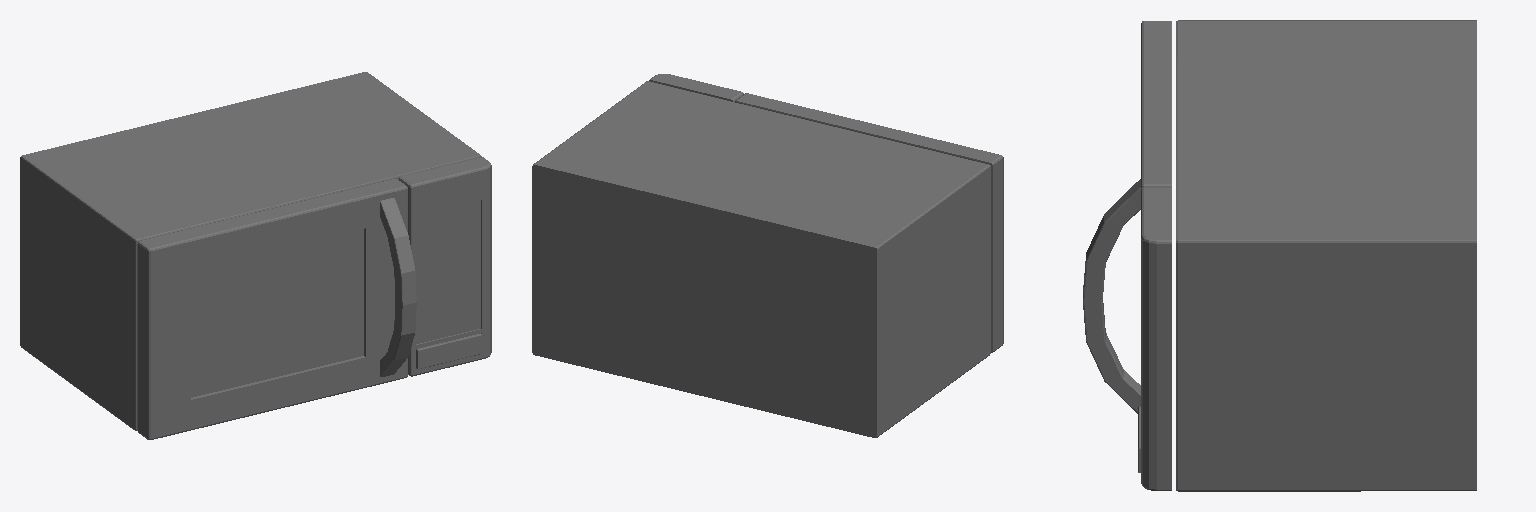
robot.urdf — microwave.urdf:
<?xml version="1.0" ?>

<robot name="microwave.urdf">
  <material name="Dark Grey">
    <color rgba=".3 .3 .3 1"/>
  </material>
  <material name="Light Grey">
    <color rgba=".5 .5 .5 1"/>
  </material>
  <link name="base_link">
    <inertial>
      <mass value="5"/>
      <inertia ixx="1" ixy="0" ixz="0" iyy="1" iyz="0" izz="1"/>
    </inertial>
    <visual>
      <geometry>
		    <mesh filename="microbody.obj" />
      </geometry>
      <material name="Light Grey"/>
    </visual>
    <visual>
      <geometry>
        <mesh filename="microbutton.obj" />
      </geometry>
      <material name="Light Grey"/>
    </visual>
    <visual>
      <geometry>
        <mesh filename="microfeet.obj" />
      </geometry>
      <material name="Light Grey"/>
    </visual>

    <collision concave="yes">
      <geometry>
		    <mesh filename="microbody.obj" />
      </geometry>
    </collision>
    <collision>
      <geometry>
        <mesh filename="microbutton.obj" />
      </geometry>
    </collision>
    <collision>
      <geometry>
        <mesh filename="microfeet.obj" />
      </geometry>
    </collision>
  </link>
  <link name="screen_link">
    <inertial>
      <mass value="5"/>
      <inertia ixx="1" ixy="0" ixz="0" iyy="1" iyz="0" izz="1"/>
    </inertial>
    <visual>
      <origin rpy="0 0 0" xyz="0 0 0"/>
      <geometry>
        <mesh filename="microscreen.obj" />
      </geometry>
      <material name="Light Grey"/>
    </visual>
    <collision>
      <origin rpy="0 0 0" xyz="0 0 0"/>
      <geometry>
        <mesh filename="microscreen.obj" />
      </geometry>
    </collision>
  </link>
  <link name="door_link">
    <inertial>
      <mass value="5"/>
      <inertia ixx="1" ixy="0" ixz="0" iyy="1" iyz="0" izz="1"/>
    </inertial>
    <visual>
      <origin rpy="0 0 0" xyz=".3 .2 0"/>
      <geometry>
			  <mesh filename="microdoor.obj" />
      </geometry>
      <material name="Light Grey"/>
    </visual>
    <visual>
      <origin rpy="0 0 0" xyz=".3 .2 0"/>
      <geometry>
        <mesh filename="microwindow.obj" />
      </geometry>
      <material name="Light Grey"/>
    </visual>

    <collision>
      <origin rpy="0 0 0" xyz=".3 .2 0"/>
      <geometry>
			  <mesh filename="microdoor.obj" />
      </geometry>
    </collision>
    <collision>
      <origin rpy="0 0 0" xyz=".3 .2 0"/>
      <geometry>
        <mesh filename="microwindow.obj" />
      </geometry>
    </collision>
  </link>
  <link name="handle_link">
    <inertial>
      <mass value="5"/>
      <inertia ixx="1" ixy="0" ixz="0" iyy="1" iyz="0" izz="1"/>
    </inertial>
    <visual>
      <origin rpy="0 0 0" xyz=".3 .2 0"/>
      <geometry>
        <mesh filename="microhandle.obj" />
      </geometry>
      <material name="Light Grey"/>
    </visual>
    <collision>
      <origin rpy="0 0 0" xyz=".3 .2 0"/>
      <geometry>
        <mesh filename="microhandle.obj" />
      </geometry>
    </collision>
  </link>
  <joint name="hinge" type="revolute">
    <parent link="base_link"/>
    <child link="door_link"/>
    <origin xyz="-.3 -.2 0" rpy="0 0 0"/>
    <axis xyz="0 0 1"/>
    <limit lower="-2.5" upper="0" effort="100" velocity="100"/>
  </joint>
  <joint name="handle" type="fixed">
    <parent link="door_link"/>
    <child link="handle_link"/>
    <origin xyz="0 0 0" rpy="0 0 0"/>
  </joint>
  <joint name="screen" type="fixed">
    <parent link="base_link"/>
    <child link="screen_link"/>
    <origin xyz="0 0 0" rpy="0 0 0"/>
  </joint>
</robot>

--- Render facts (derived) ---
3 views of the same robot in one strip: view 1: azimuth 30°, elevation 25°; view 2: azimuth 150°, elevation 25°; view 3: azimuth 270°, elevation 25° (orthographic).
Robot: microwave.urdf — 4 links, 3 joints (1 revolute, 2 fixed); root link base_link; default pose: all joints at 0.
Visible links, largest first — view 1: base_link, door_link, screen_link, handle_link; view 2: base_link, door_link, screen_link; view 3: base_link, screen_link, door_link, handle_link.
Boxes of the visible links, x1,y1,x2,y2 form: base_link: [20, 72, 481, 430]; door_link: [137, 179, 407, 439]; screen_link: [399, 157, 491, 376]; handle_link: [380, 198, 416, 376]; base_link: [532, 81, 990, 437]; door_link: [735, 93, 1003, 352]; screen_link: [649, 74, 743, 101]; base_link: [1138, 20, 1476, 491]; screen_link: [1141, 188, 1171, 490]; door_link: [1141, 21, 1171, 189]; handle_link: [1083, 179, 1140, 413].
Bounding box of the posed robot: 0.6892 × 0.5187 × 0.3738 m (x, y, z).
7 mesh visuals loaded from 7 distinct referenced files (7 OBJ).
